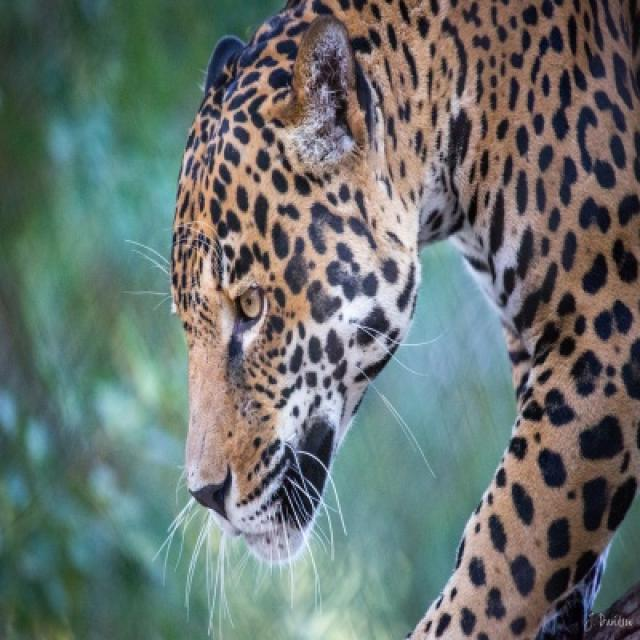Jaguar: (166, 0, 638, 638)
